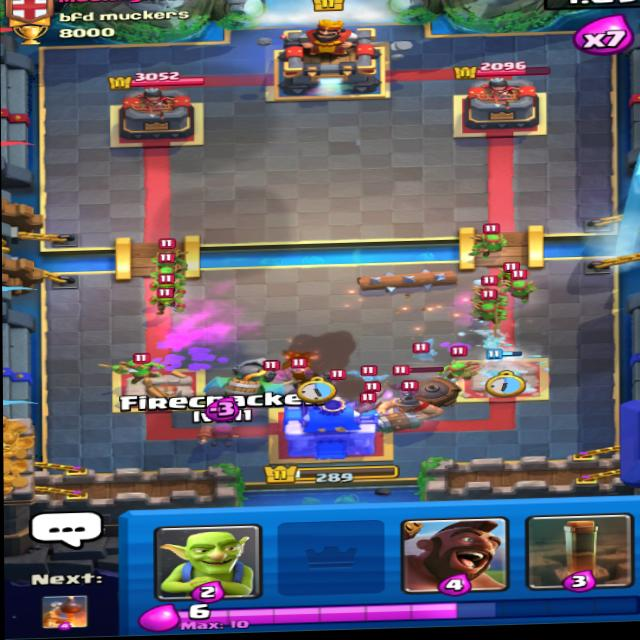goblin: (152, 286, 196, 314)
mighty-miner: (374, 358, 463, 439)
spear-goblin: (503, 271, 548, 307), (466, 228, 510, 256), (436, 352, 478, 376), (476, 297, 515, 322), (126, 355, 162, 382), (152, 256, 189, 281)
